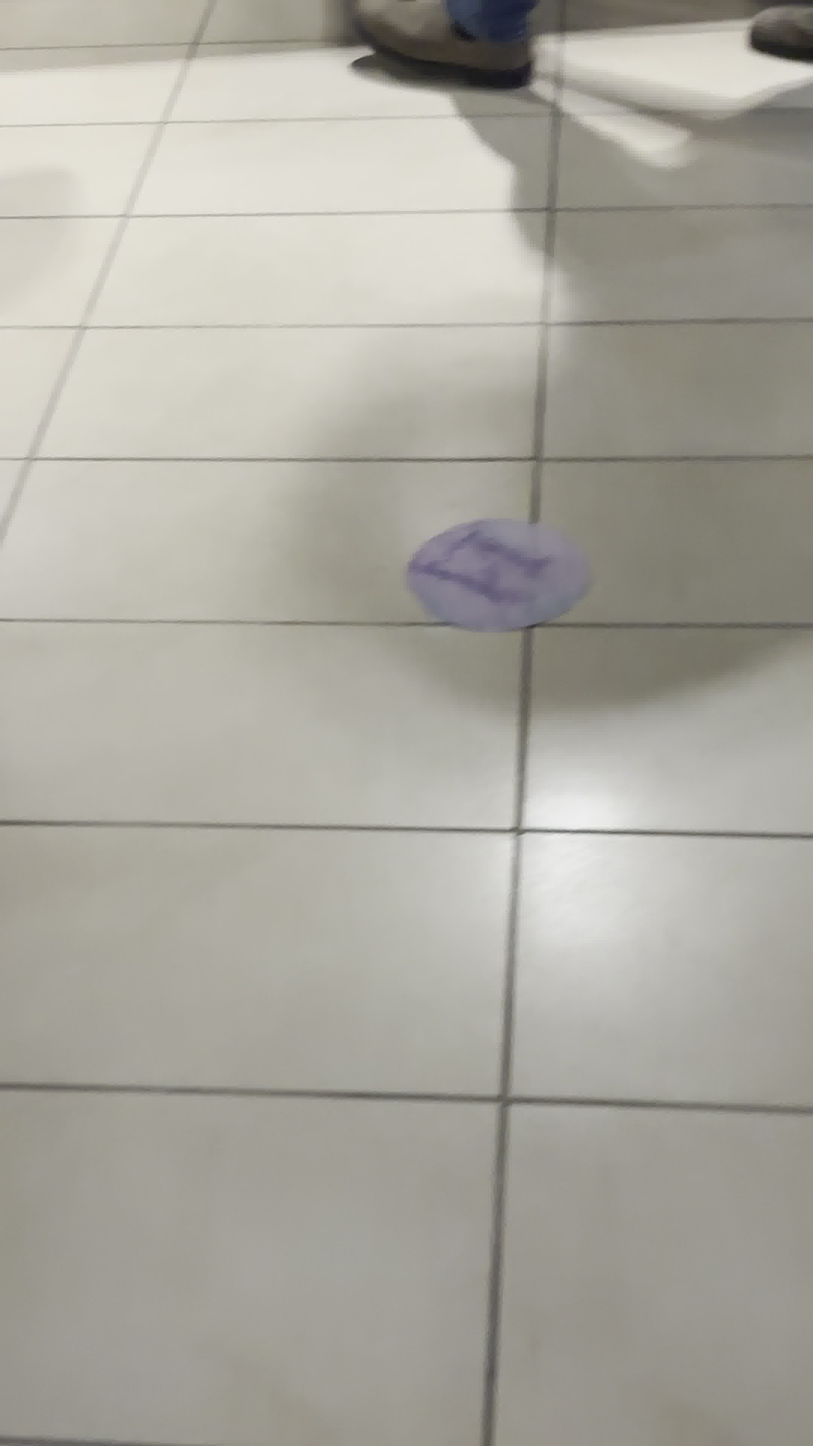Target: (406, 519, 588, 634)
